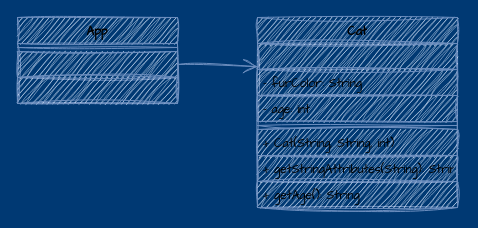
The diagram is 478 pixels wide and 228 high, and some of its shapes have lost their labels. The box of each missing label's shape, as (x1, y1, x2, y2) in pixels:
+ main(String[]): void: (16, 50, 178, 78)
- name: String: (256, 42, 458, 70)
- output(String): void: (16, 76, 178, 104)
